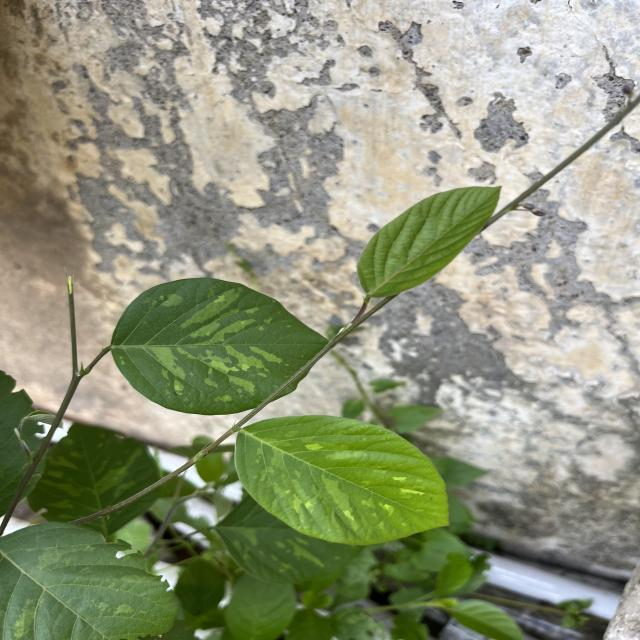Desmodium gangeticum: (108, 274, 332, 418), (230, 413, 454, 547)
